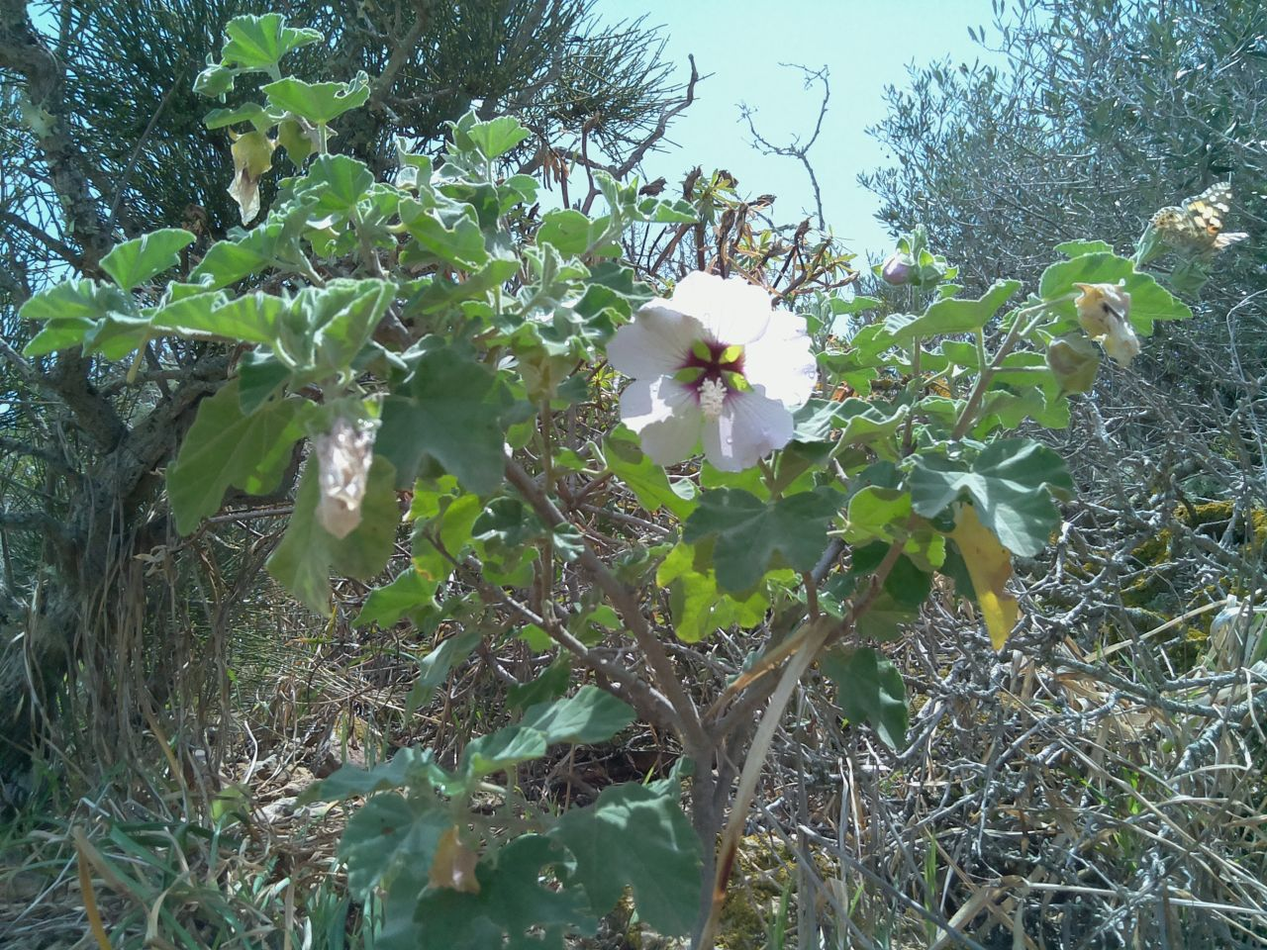Vanessa cardui: (1134, 171, 1256, 280)
